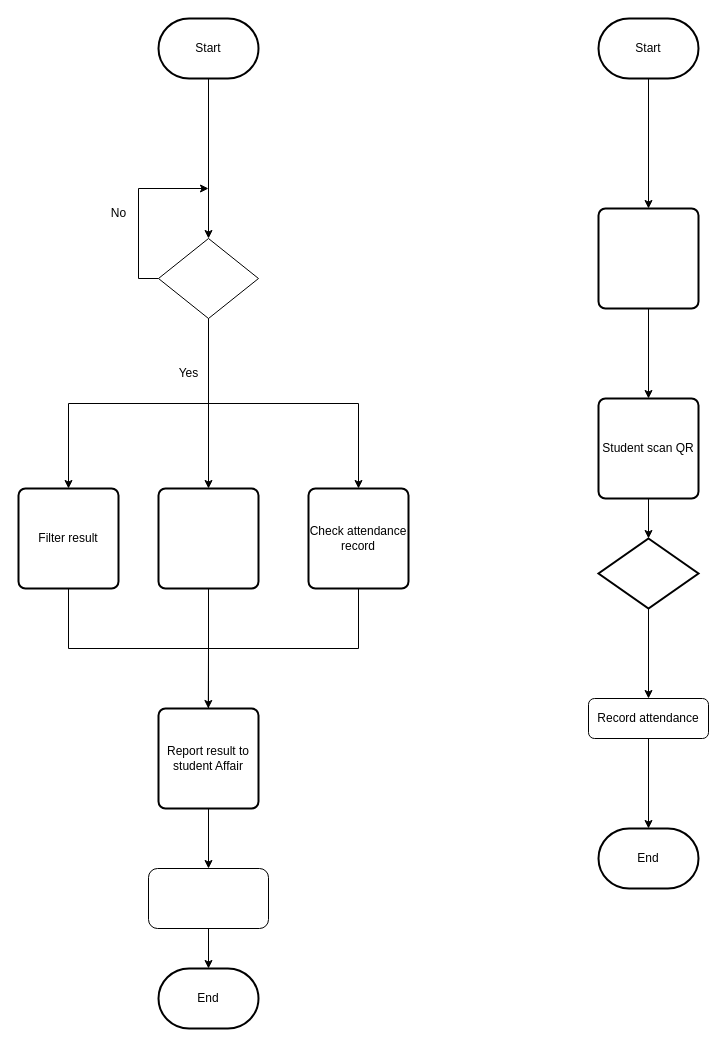
The diagram is 726 pixels wide and 1046 high, and some of its shapes have lost their labels. Each missing label, with the box of its shape:
Announce RC: (148, 868, 268, 928)
Approve ?: (597, 537, 699, 609)
Generate QR: (157, 487, 259, 589)
Login: (158, 238, 258, 318)
QR Display: (597, 207, 699, 309)
